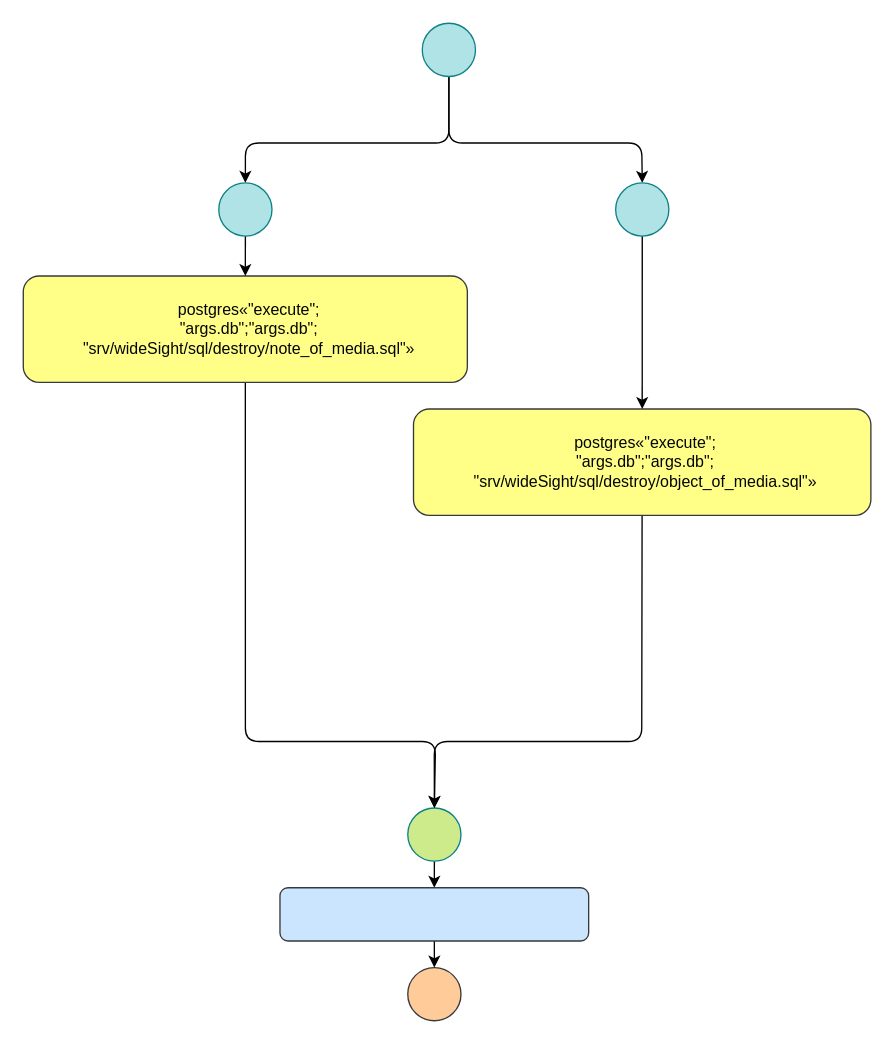
The diagram is 895 pixels wide and 1044 high, and some of its shapes have lost their labels. The box of each missing label's shape, as (x1, y1, x2, y2) in pixels:
set«"scope.config_postgres";true»: (279, 886, 589, 941)
start: (421, 22, 475, 76)
